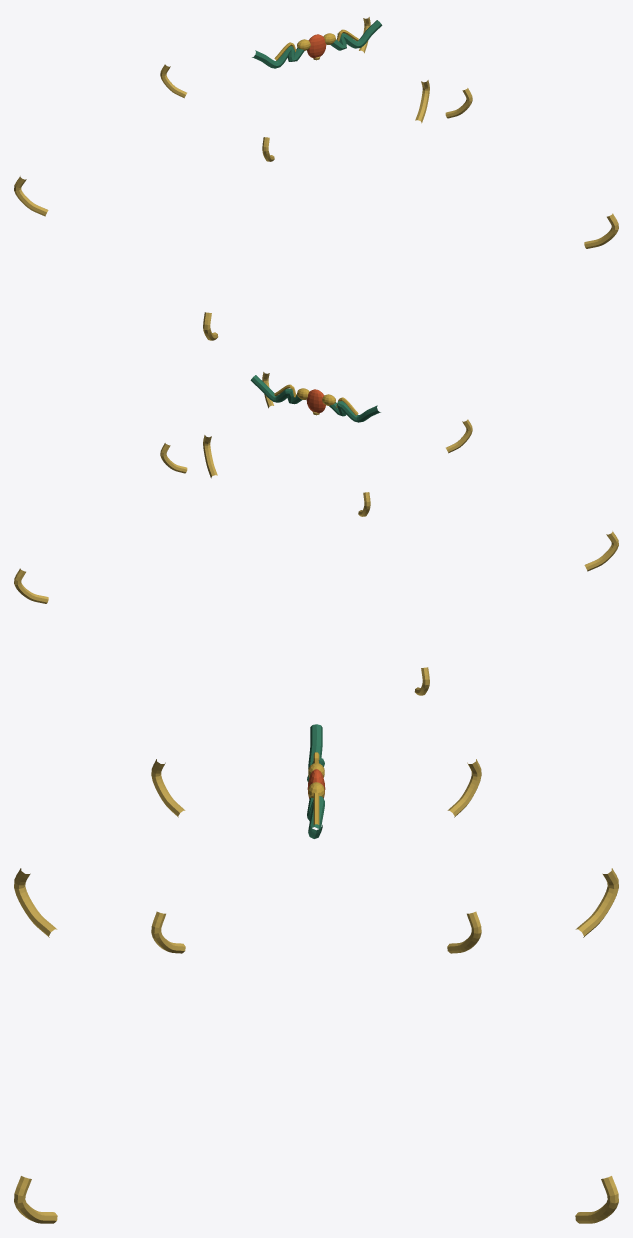
The model's file is gate-chanhtay-hero.glb.
3 renders of one model, top to bottom at view 1: azimuth 30°, elevation 25°; view 2: azimuth 150°, elevation 25°; view 3: azimuth 270°, elevation 25°, orthographic. The views are drawn at different scales.
Parts seen in each view (by area): view 1: gate_chanhtay_hero; view 2: gate_chanhtay_hero; view 3: gate_chanhtay_hero.
Part boxes in pixels (bbox=[...]): gate_chanhtay_hero: bbox=[14, 17, 618, 340]; gate_chanhtay_hero: bbox=[14, 372, 618, 695]; gate_chanhtay_hero: bbox=[14, 724, 618, 1223].
Size of the model in its own units: 7.71 by 3.51 by 6.21.
